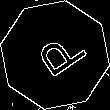P_SW: (24, 25, 86, 85)
